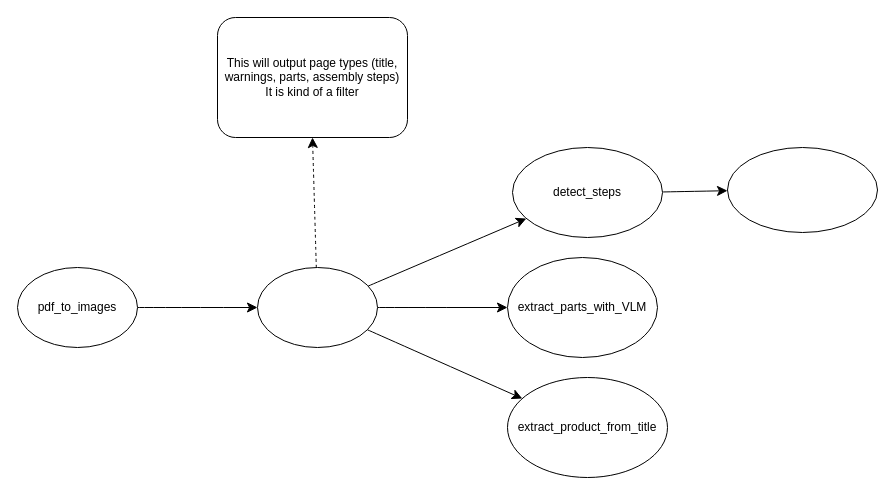
The diagram is 895 pixels wide and 495 high, and some of its shapes have lost their labels. The centre of each missing label's shape, as x and y in pixels:
"crop_steps" goes at pixel 802 189.
"page_type_classifier" goes at pixel 317 307.
